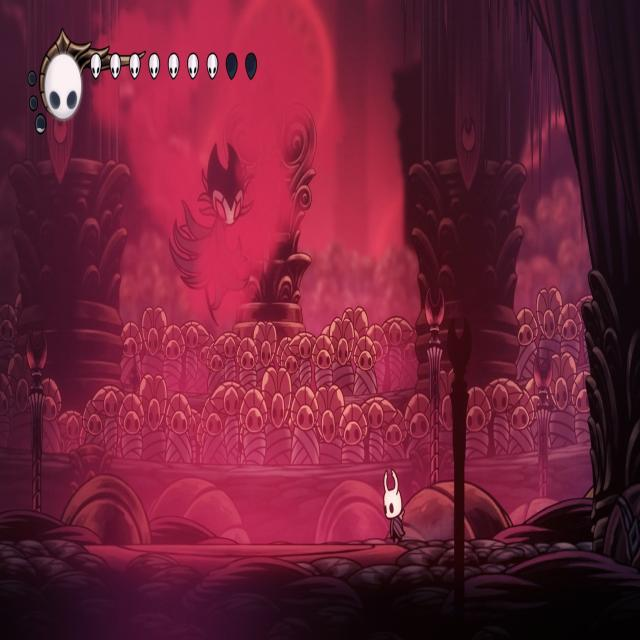Grimm: (166, 137, 256, 331)
Player: (380, 461, 408, 545)
